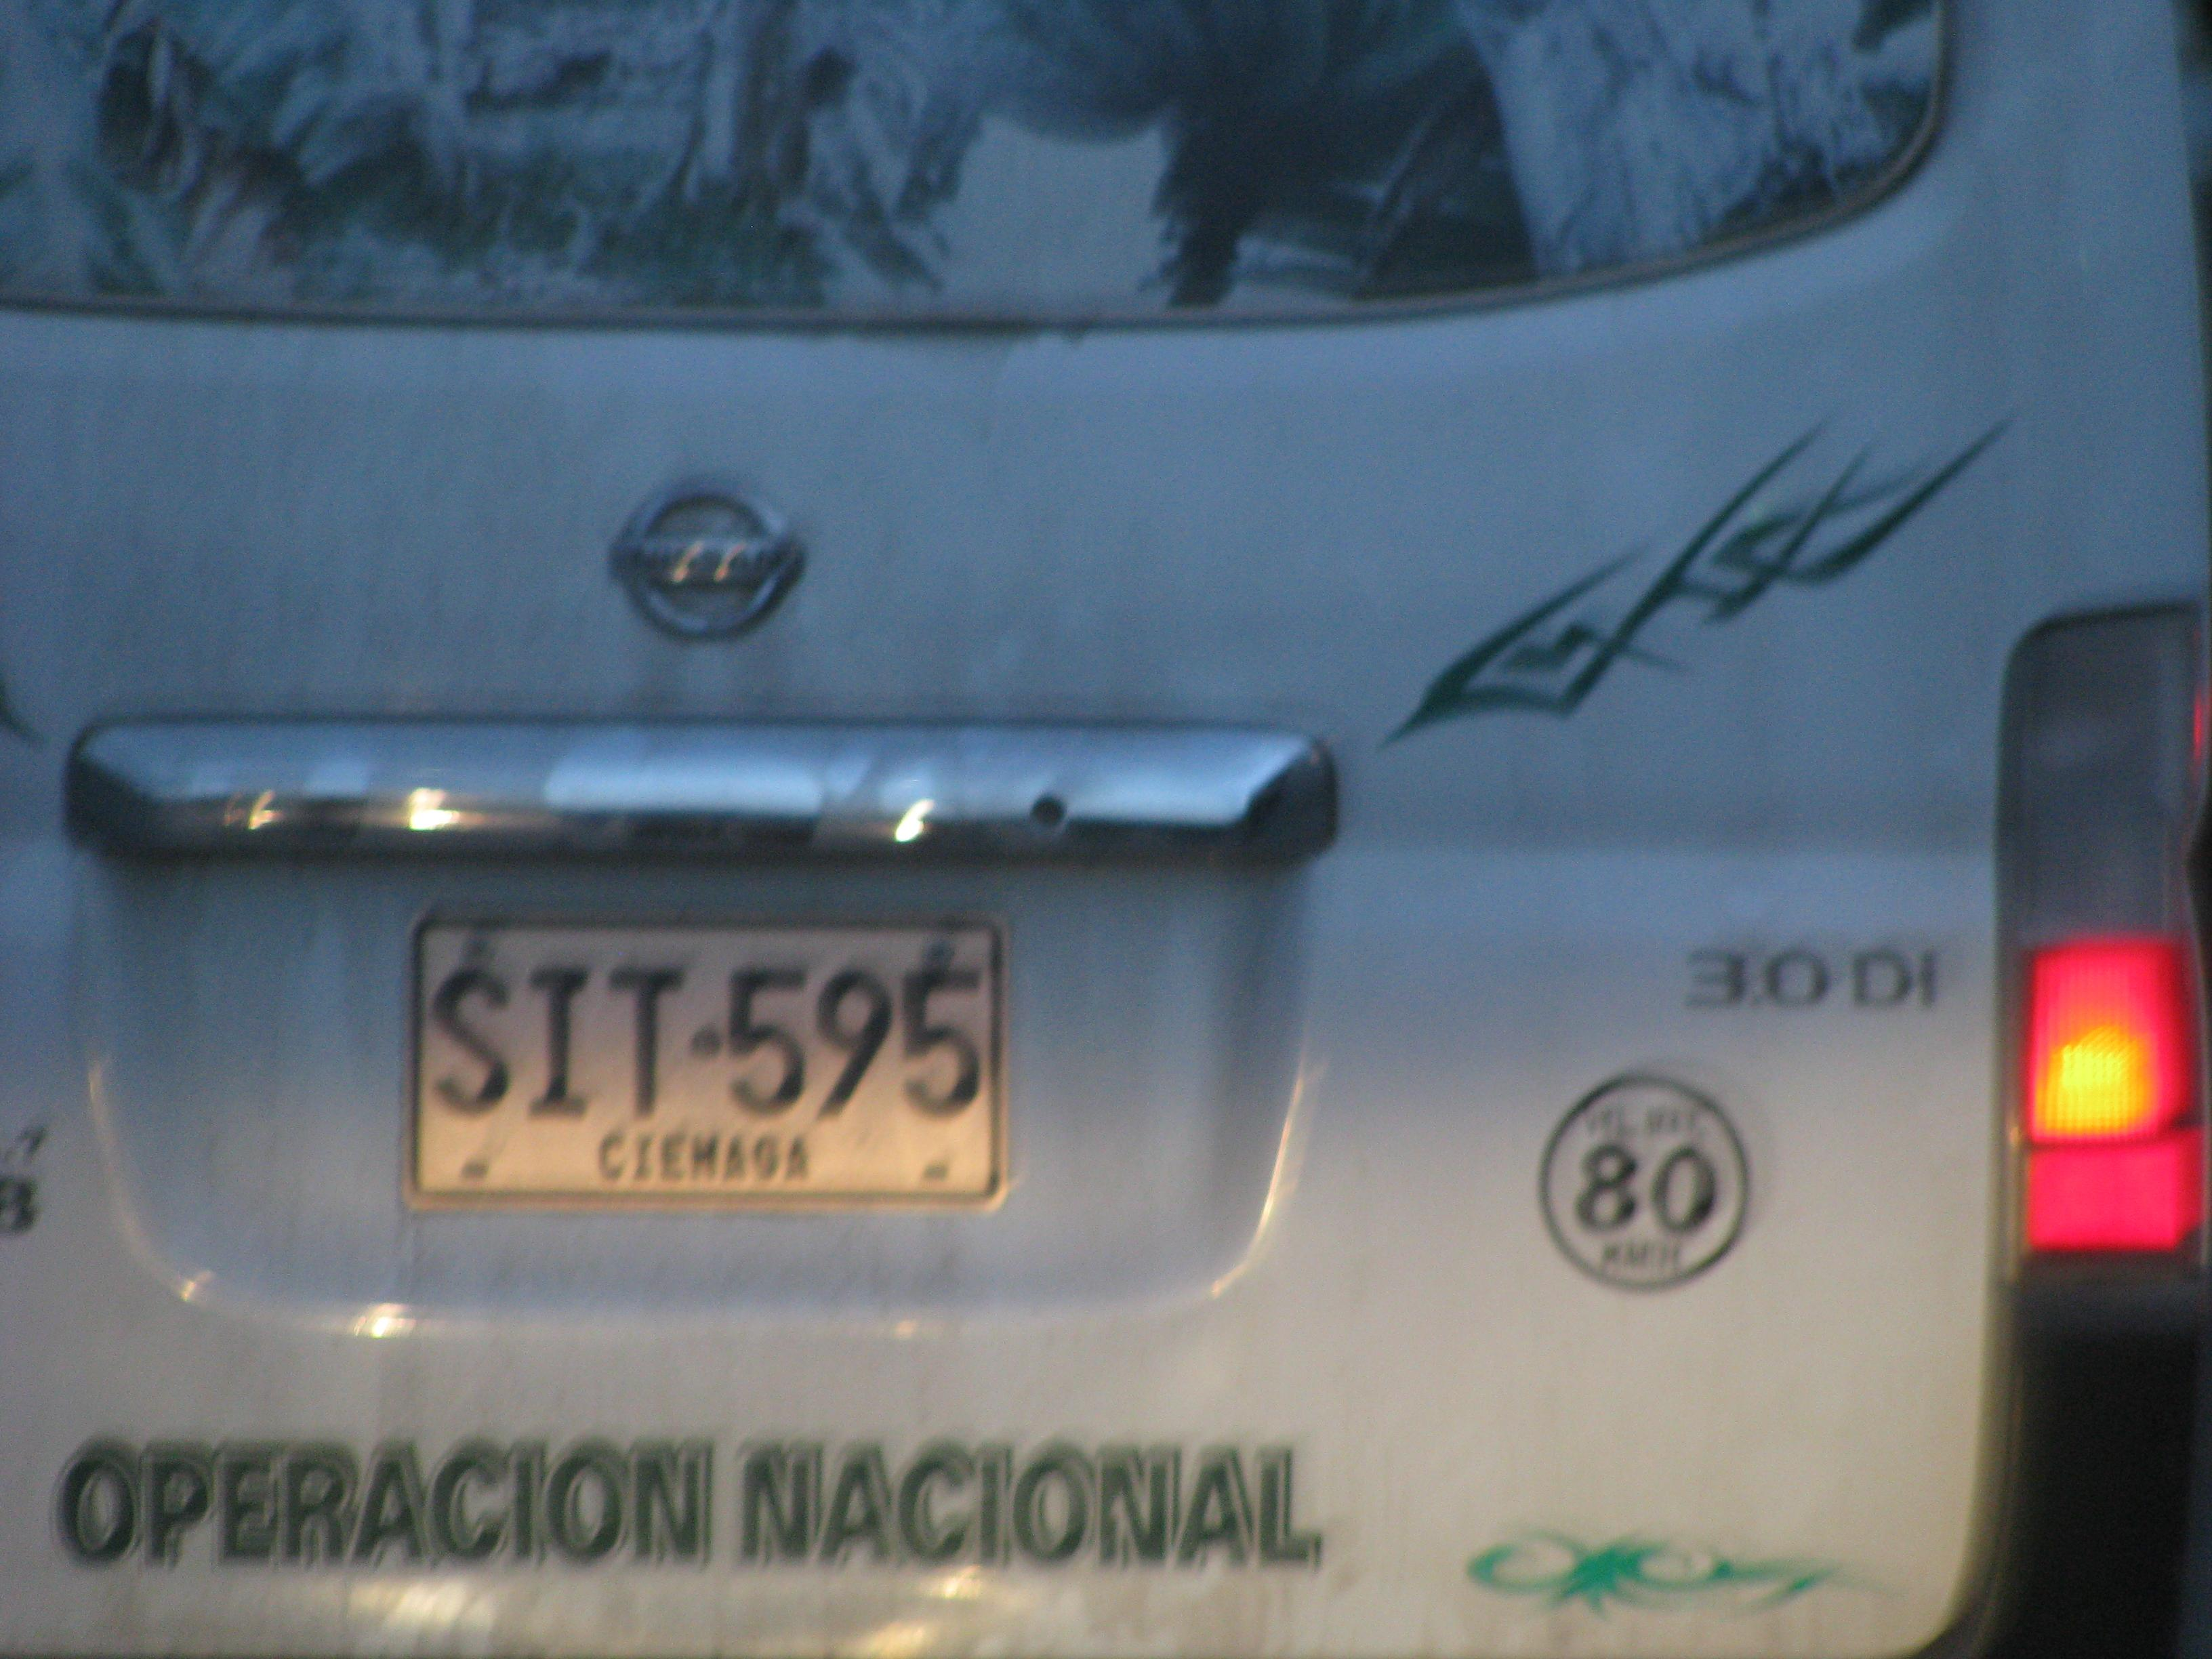placas: (396, 896, 1014, 1218)
